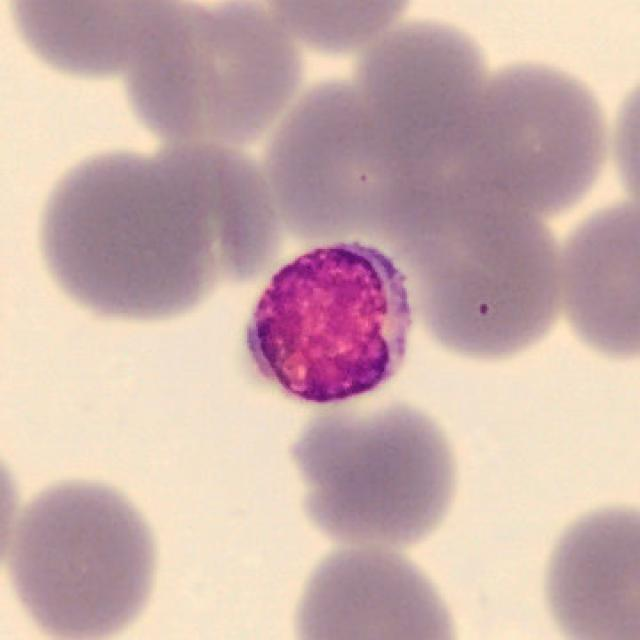Linfocito: (245, 245, 414, 405)
